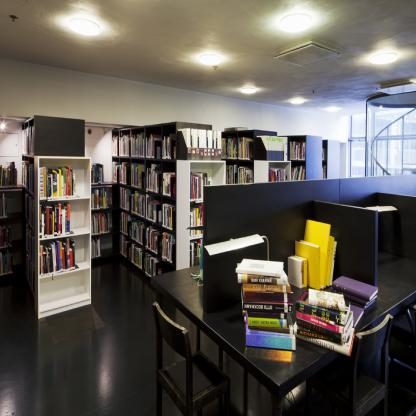book: (242, 254, 301, 364), (291, 290, 356, 360), (284, 219, 337, 290), (330, 276, 379, 328), (38, 237, 77, 278), (39, 164, 76, 198), (38, 201, 71, 238), (145, 194, 176, 230), (220, 134, 254, 164), (256, 136, 286, 162), (222, 162, 254, 185), (142, 249, 165, 280), (189, 171, 211, 200), (188, 204, 204, 242), (145, 220, 160, 258), (20, 155, 35, 191), (130, 212, 146, 245), (22, 190, 34, 232), (90, 186, 110, 211), (0, 158, 16, 188), (130, 240, 146, 270), (144, 164, 161, 192), (160, 232, 174, 266), (188, 236, 202, 270), (90, 212, 111, 234), (25, 218, 35, 264), (20, 125, 35, 155), (23, 250, 34, 290), (131, 186, 145, 217), (88, 162, 106, 186), (288, 138, 306, 162), (117, 186, 133, 212), (146, 134, 162, 160), (118, 210, 131, 240), (130, 162, 146, 186), (162, 170, 174, 201), (162, 134, 176, 160), (0, 248, 12, 276), (0, 222, 12, 247), (132, 132, 143, 158), (120, 232, 130, 260), (290, 165, 306, 182), (120, 131, 130, 157), (92, 236, 103, 259), (119, 162, 130, 184), (0, 191, 7, 221), (110, 133, 119, 155), (112, 156, 119, 182), (323, 163, 329, 180), (323, 146, 328, 162)
